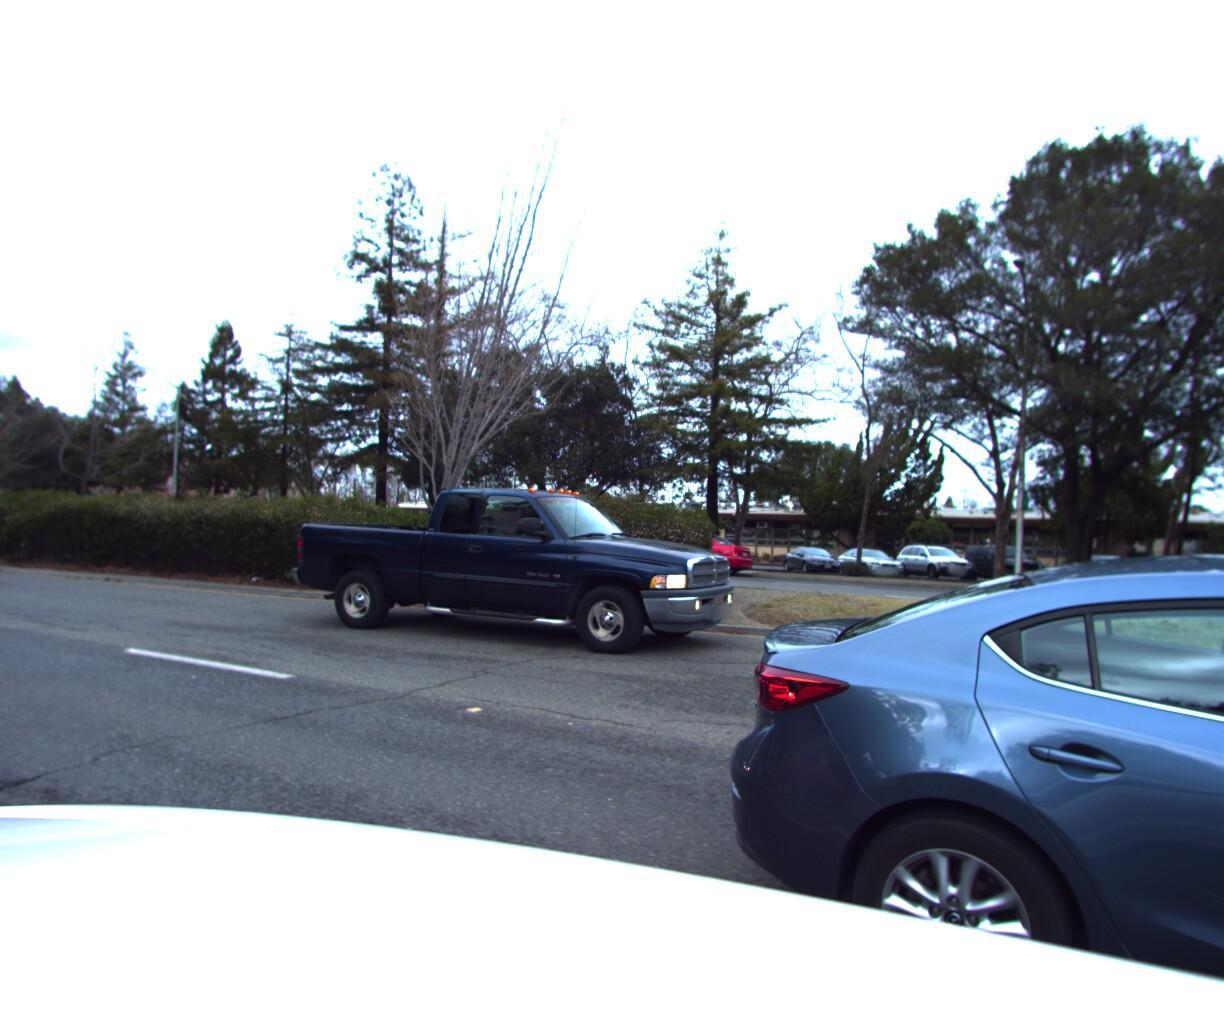car: (607, 520, 1224, 1024), (282, 476, 760, 662), (609, 523, 761, 578)
